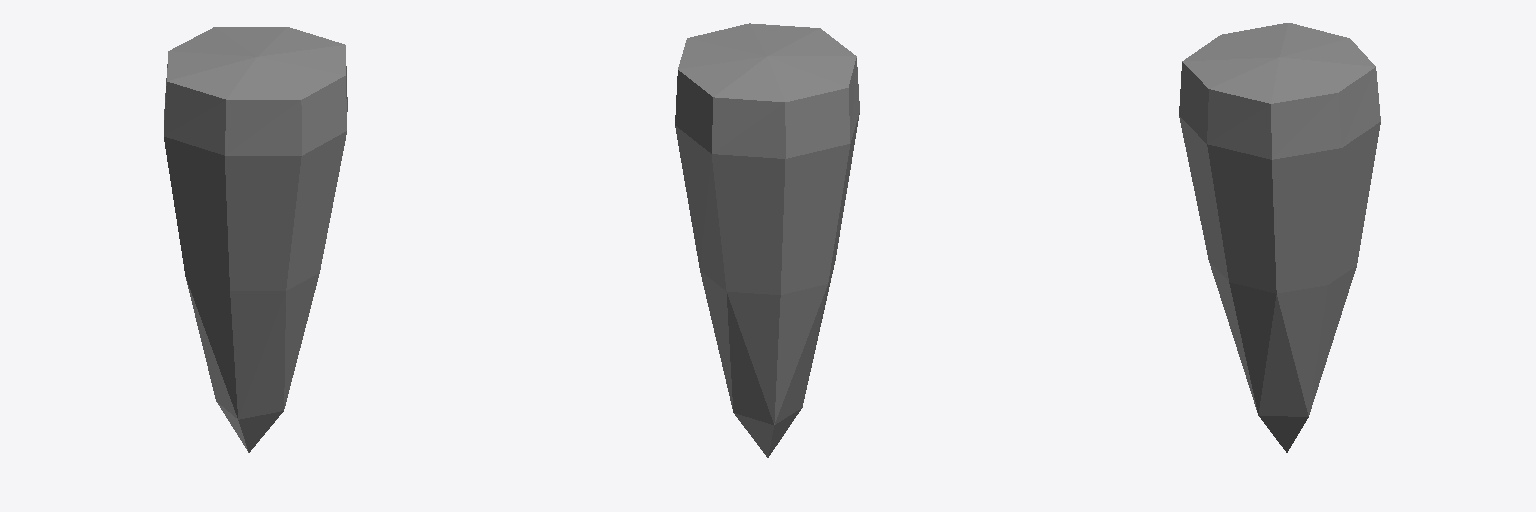
File: step_stone_01.obj
3 renders of one model, left to right at view 1: azimuth 30°, elevation 25°; view 2: azimuth 150°, elevation 25°; view 3: azimuth 270°, elevation 25°, orthographic.
Parts seen in each view (by area): view 1: step_stone_01; view 2: step_stone_01; view 3: step_stone_01.
Boxes of the visible parts, x1,y1,x2,y2 form: step_stone_01: [164, 27, 347, 452]; step_stone_01: [675, 23, 859, 457]; step_stone_01: [1179, 23, 1380, 452].
Bounding box in the file's own units: 153 × 332 × 153.